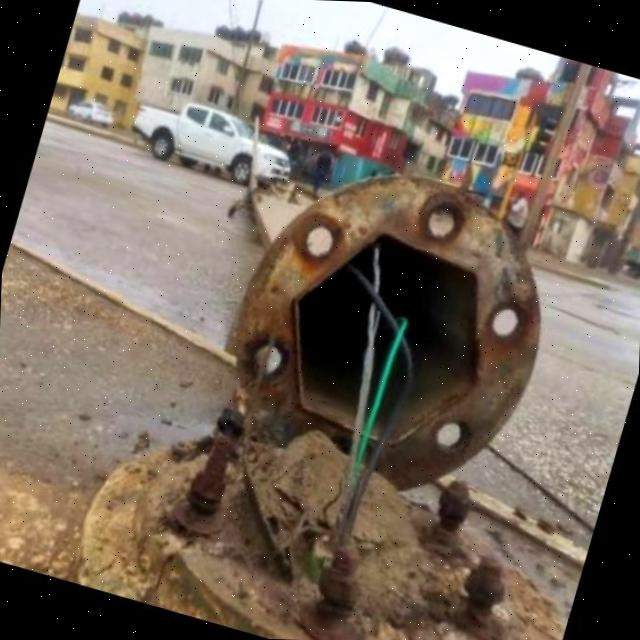Broken Pole: (78, 111, 549, 640)
